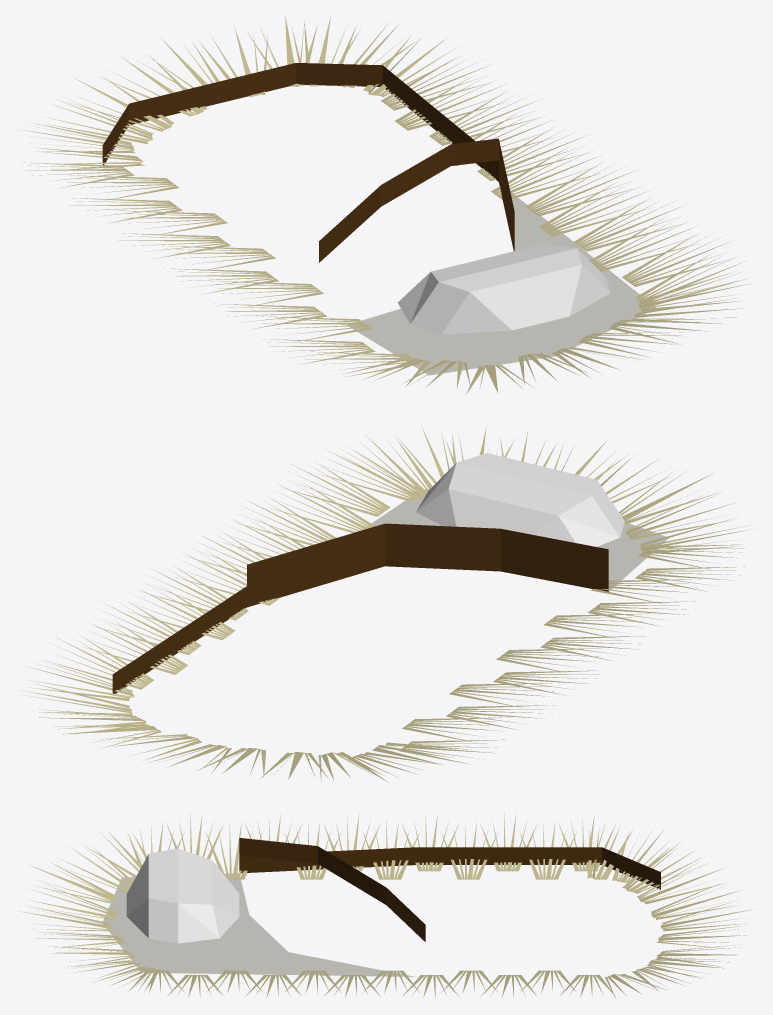
The model's file is obj_bed_7_0.obj.
3 views of the same model, one above another, from view 1: azimuth 30°, elevation 25°; view 2: azimuth 150°, elevation 25°; view 3: azimuth 270°, elevation 25° (orthographic). The views are drawn at different scales.
Bounding box in the file's own units: 1.41 × 0.1641 × 2.38.
